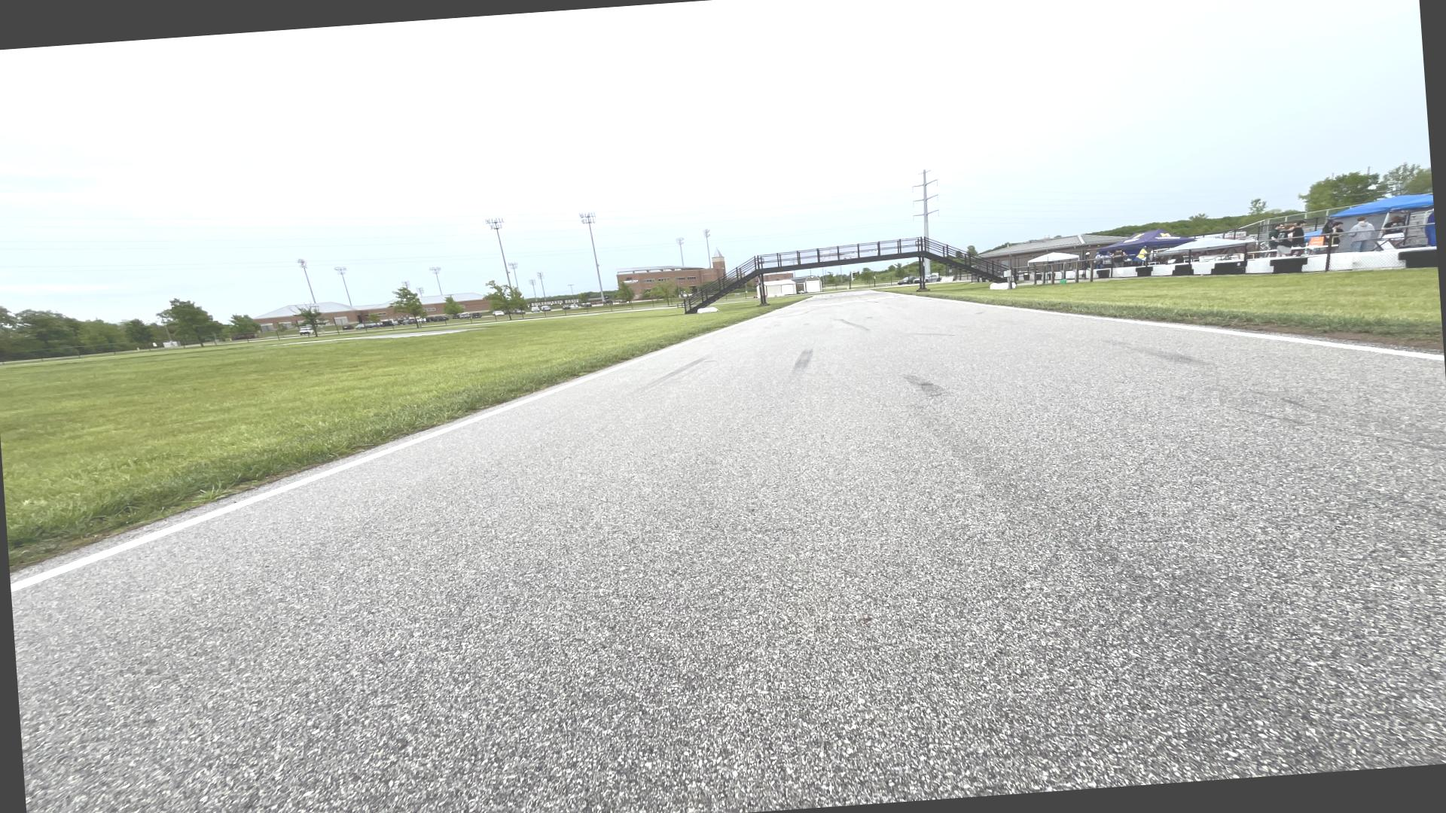white-line: (11, 311, 778, 593), (914, 297, 1444, 361), (782, 297, 815, 309), (871, 291, 901, 295)
